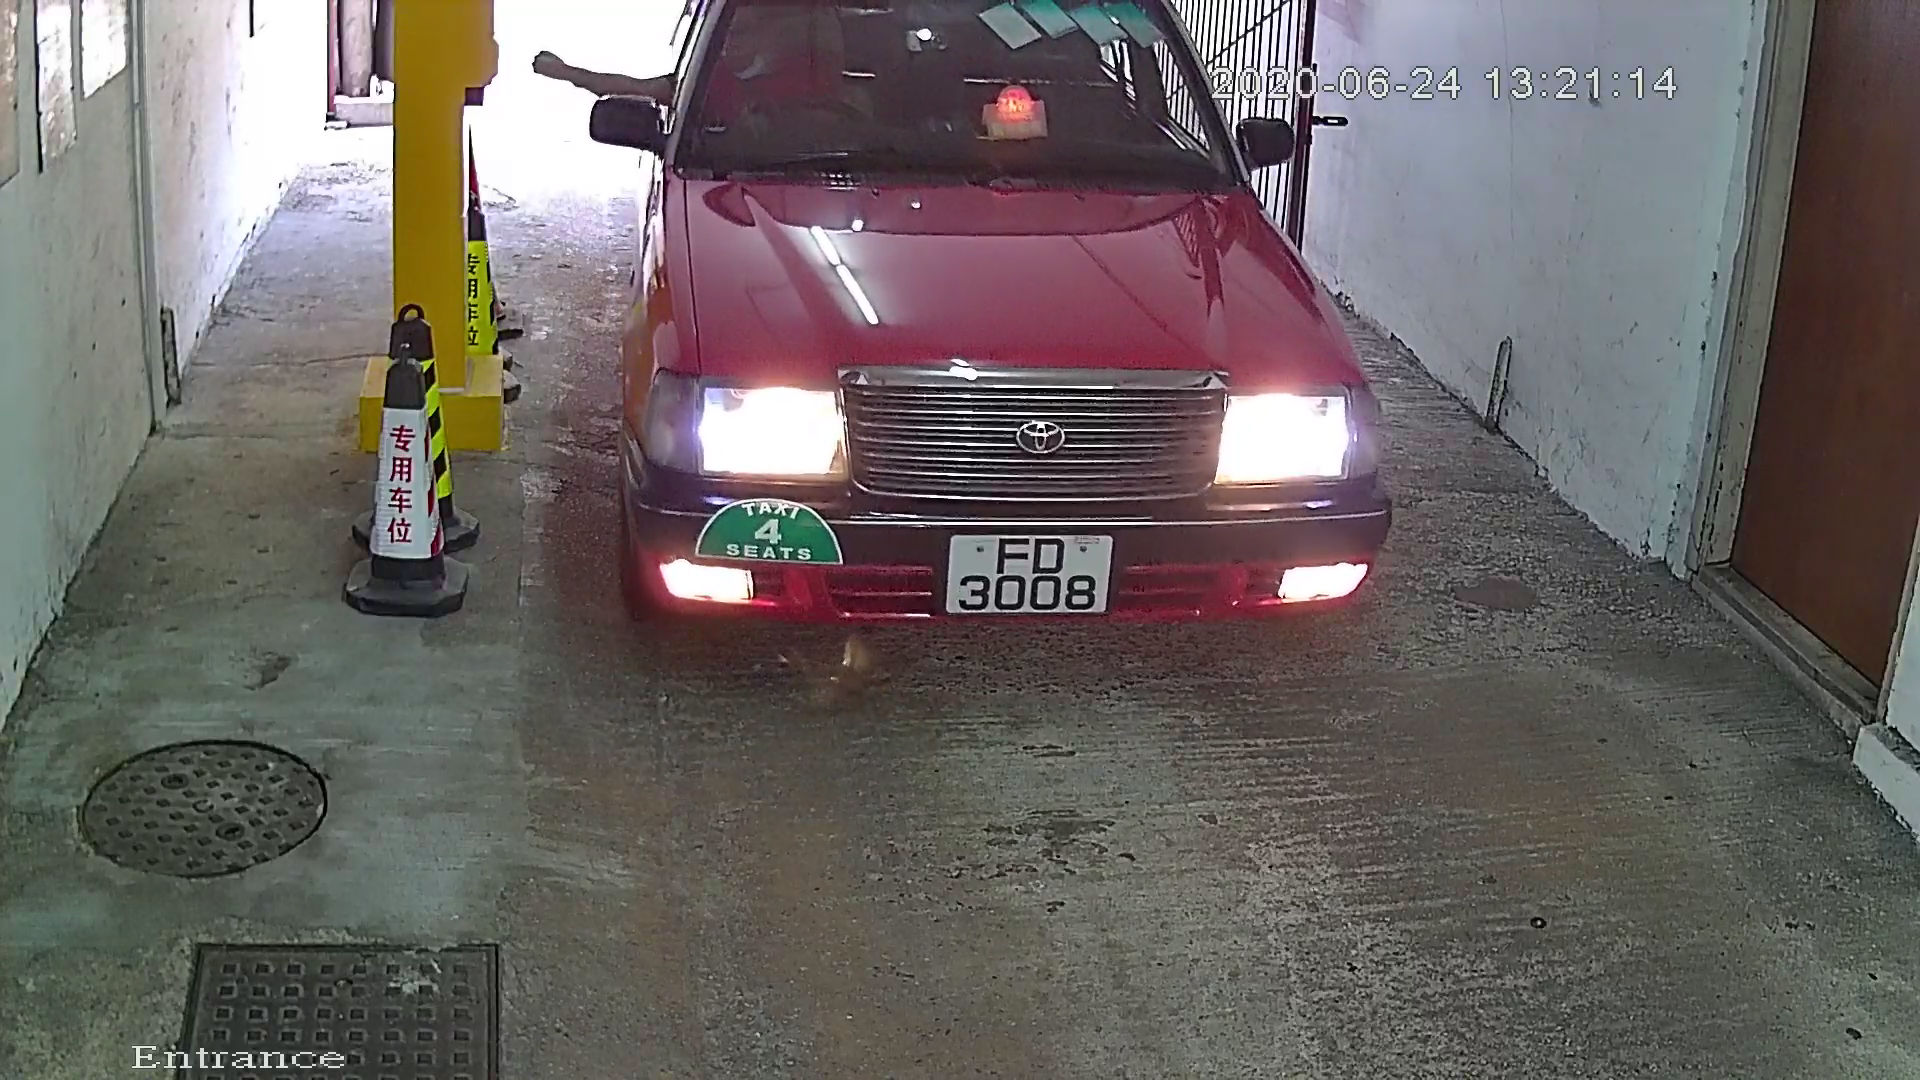Car: (540, 1, 1446, 708)
License Plate: (935, 524, 1122, 626)
